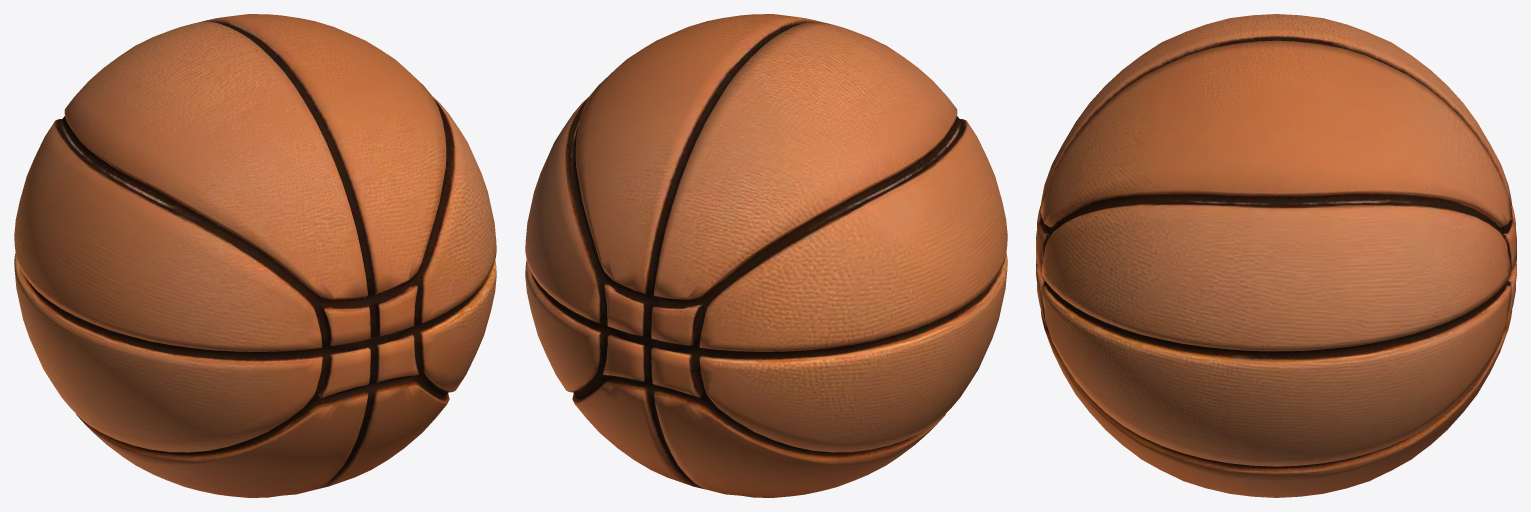
The model's file is ball.glb.
3 renders of one model, left to right at view 1: azimuth 30°, elevation 25°; view 2: azimuth 150°, elevation 25°; view 3: azimuth 270°, elevation 25°, orthographic.
Visible parts, largest first — view 1: part_00000001; view 2: part_00000001; view 3: part_00000001.
Boxes of the visible parts, box(x1,y1,x2,y2) form: part_00000001: box(14, 14, 496, 497); part_00000001: box(525, 14, 1007, 497); part_00000001: box(1036, 14, 1516, 497).
Size of the model in its own units: 1.19 by 1.19 by 1.19.
Materials: 1 (1 with a texture image).
